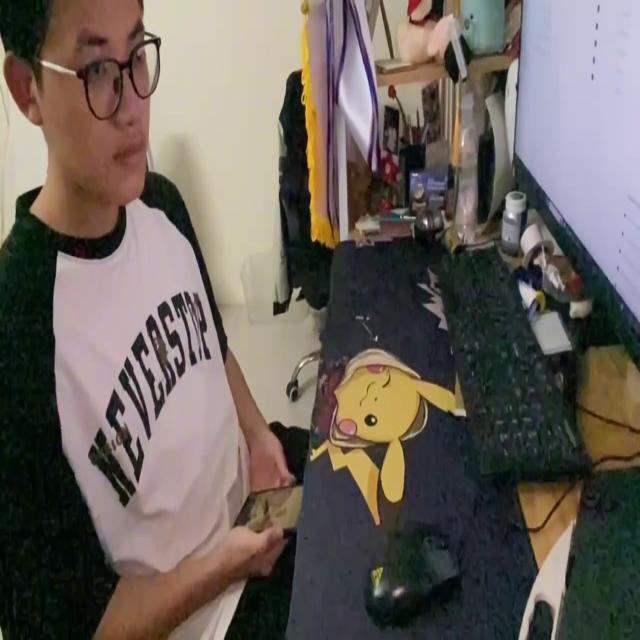laptop: (510, 4, 640, 368)
phone: (238, 478, 302, 541)
student: (0, 0, 299, 640)
